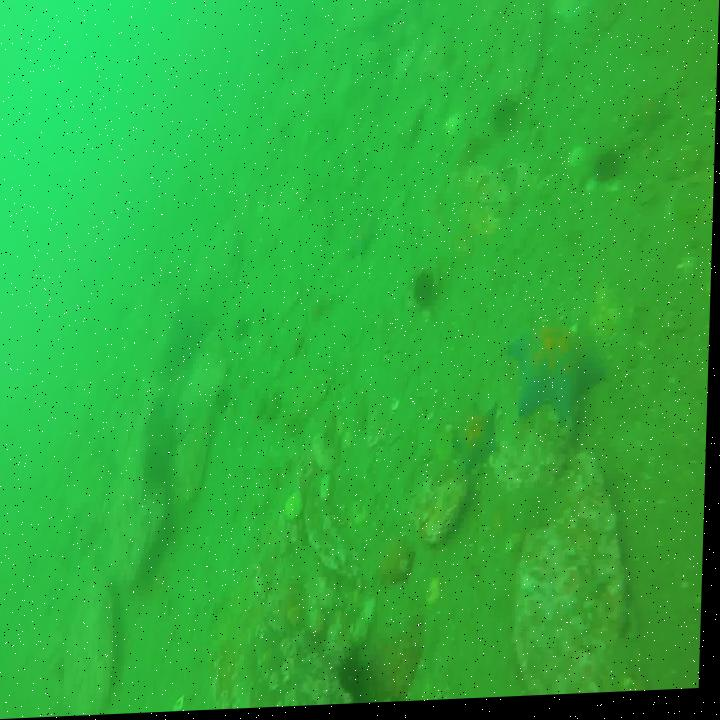echinus: (339, 654, 377, 708), (496, 99, 523, 135), (596, 154, 619, 192), (418, 272, 437, 307)
starfish: (507, 325, 605, 431), (458, 410, 503, 475), (628, 94, 676, 150), (349, 222, 380, 264)
